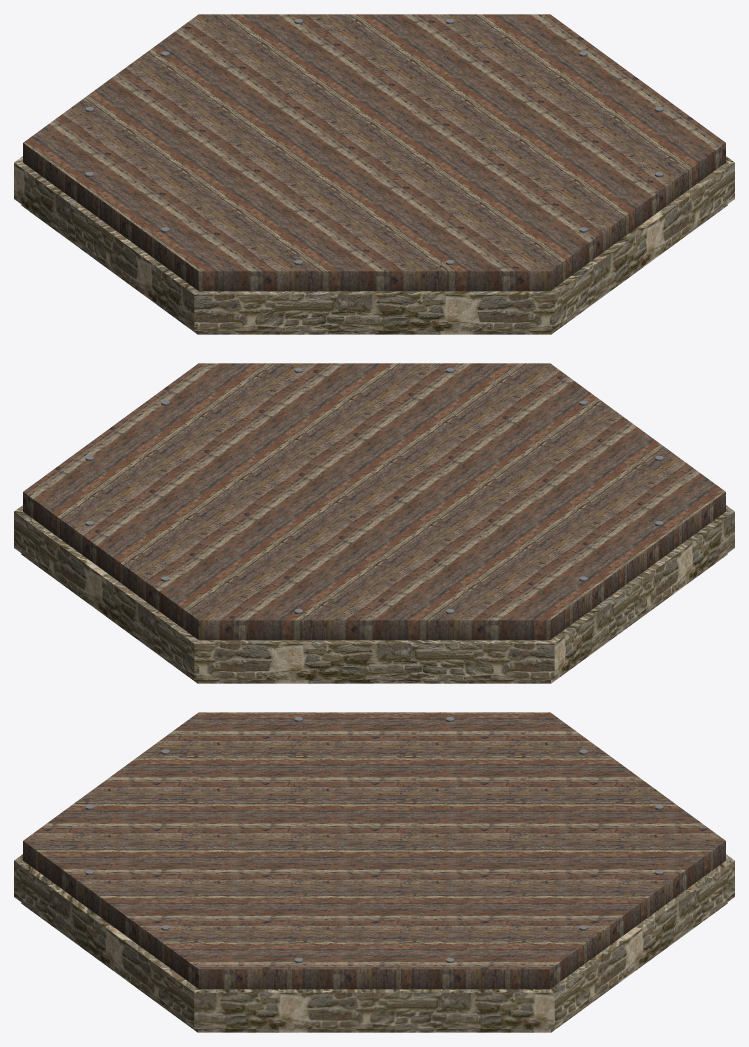
Rendered from pipe_plate.glb.
The picture shows the model from 3 angles, top to bottom: view 1: azimuth 30°, elevation 25°; view 2: azimuth 150°, elevation 25°; view 3: azimuth 270°, elevation 25°; orthographic projection.
Visible parts, largest first — view 1: PP_WoodDeck, PP_Body, PP_BaseRim, PP_Nails; view 2: PP_WoodDeck, PP_Body, PP_BaseRim, PP_Nails; view 3: PP_WoodDeck, PP_Body, PP_BaseRim.
Part boxes in pixels (<box>): PP_WoodDeck: <box>23,14,725,291</box>; PP_Body: <box>14,156,734,330</box>; PP_BaseRim: <box>21,204,727,334</box>; PP_Nails: <box>85,19,663,264</box>; PP_WoodDeck: <box>23,363,725,640</box>; PP_Body: <box>14,505,734,679</box>; PP_BaseRim: <box>21,553,727,683</box>; PP_Nails: <box>85,368,663,613</box>; PP_WoodDeck: <box>23,712,725,989</box>; PP_Body: <box>14,854,734,1028</box>; PP_BaseRim: <box>21,902,727,1032</box>.
Size of the model in its own units: 1.71 by 0.195 by 1.98.
Materials: 3 (2 with a texture image).
